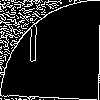I: (25, 24, 40, 72)
